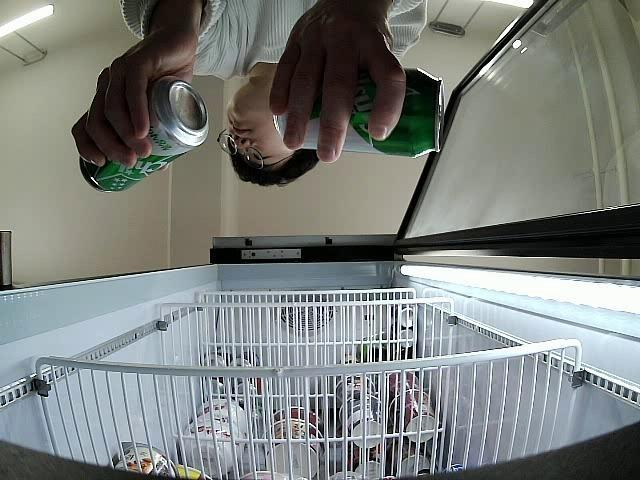12_chilsungCider: (274, 68, 444, 159), (80, 77, 210, 194)
